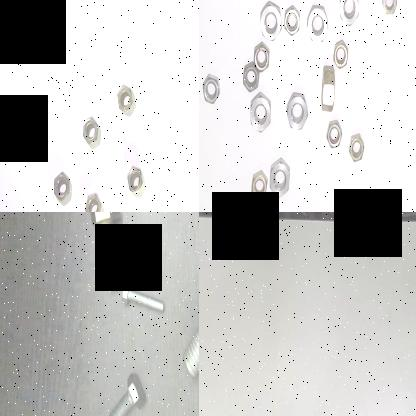Bolts: (87, 212, 122, 293), (99, 365, 152, 416), (116, 277, 166, 320), (178, 280, 199, 381)
NUTS: (256, 0, 282, 46), (283, 88, 309, 132), (267, 152, 290, 200), (304, 0, 328, 45), (248, 90, 273, 132), (318, 61, 336, 113), (199, 68, 221, 106), (249, 38, 271, 73), (337, 0, 361, 32), (114, 78, 135, 114), (50, 169, 72, 203), (240, 58, 260, 95), (80, 110, 99, 148), (249, 169, 269, 204), (348, 130, 368, 164), (329, 38, 349, 70), (282, 4, 302, 36), (125, 163, 144, 195), (326, 116, 344, 148), (83, 187, 101, 212), (379, 0, 399, 18)
